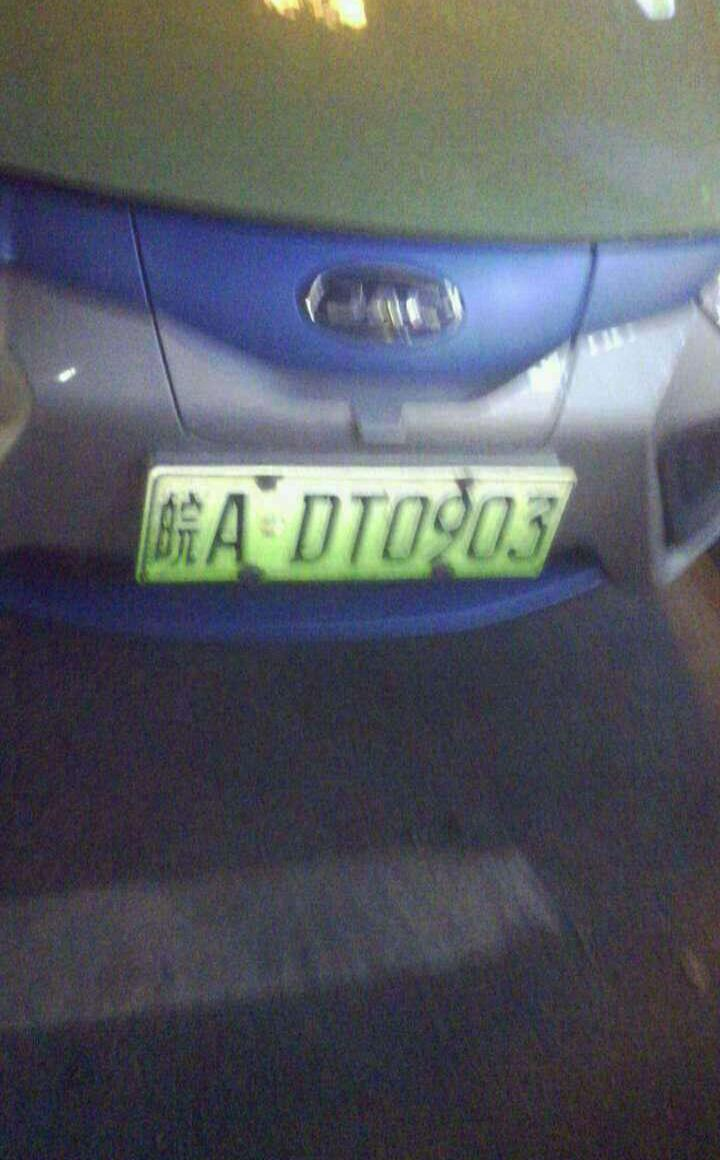car_id: (136, 471, 564, 584)
